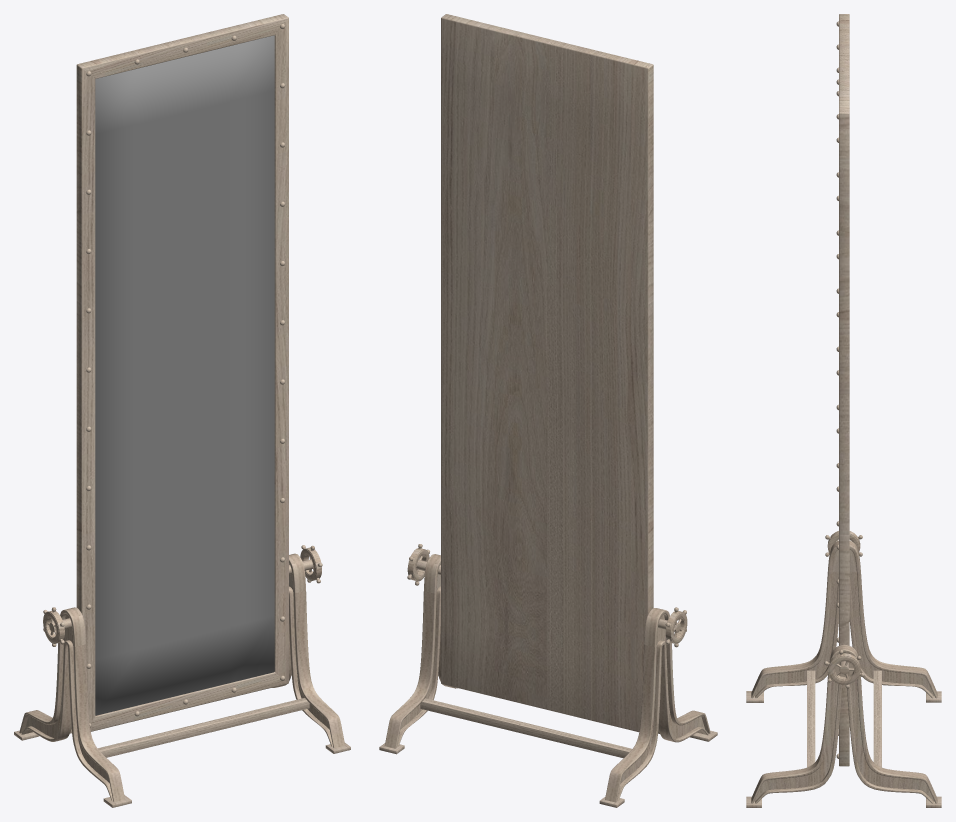
3 renders of one model, left to right at view 1: azimuth 30°, elevation 25°; view 2: azimuth 150°, elevation 25°; view 3: azimuth 270°, elevation 25°, orthographic.
Parts seen in each view (by area): view 1: Mirror_3046_01, Mirror_3046_02; view 2: Mirror_3046_01, Mirror_3046_02; view 3: Mirror_3046_01, Mirror_3046_02.
Boxes of the visible parts, <box> form: Mirror_3046_01: <box>14,14,350,807</box>; Mirror_3046_02: <box>43,24,322,646</box>; Mirror_3046_01: <box>379,14,717,807</box>; Mirror_3046_02: <box>407,544,687,647</box>; Mirror_3046_01: <box>746,14,941,807</box>; Mirror_3046_02: <box>824,21,864,688</box>.
Bounding box in the file's own units: 761 × 1937 × 499.
2 materials, 1 textured.
